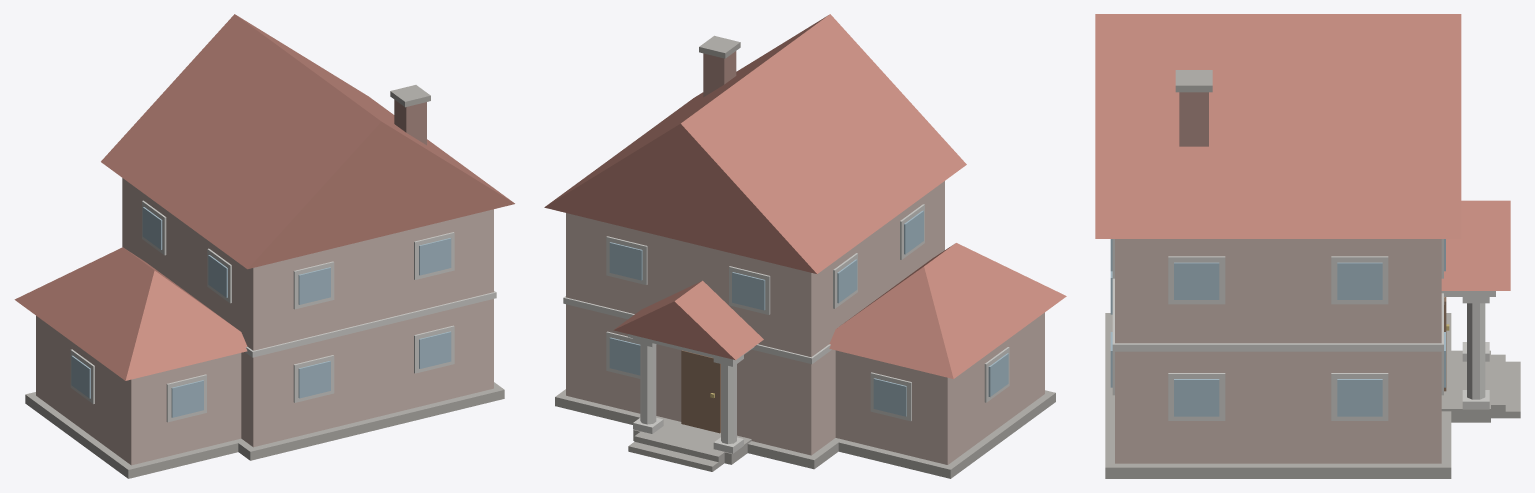
The model's file is casa-n05-67189782.glb.
The picture shows the model from 3 angles, left to right: view 1: azimuth 30°, elevation 25°; view 2: azimuth 150°, elevation 25°; view 3: azimuth 270°, elevation 25°; orthographic projection. The views are drawn at different scales.
Size of the model in its own units: 11 by 8.65 by 8.6.
